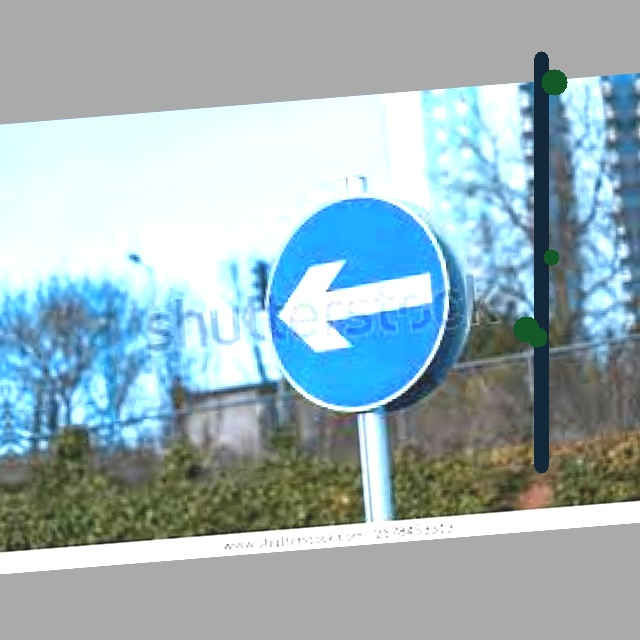Compulsory_Turn_Left: (256, 186, 471, 426)
